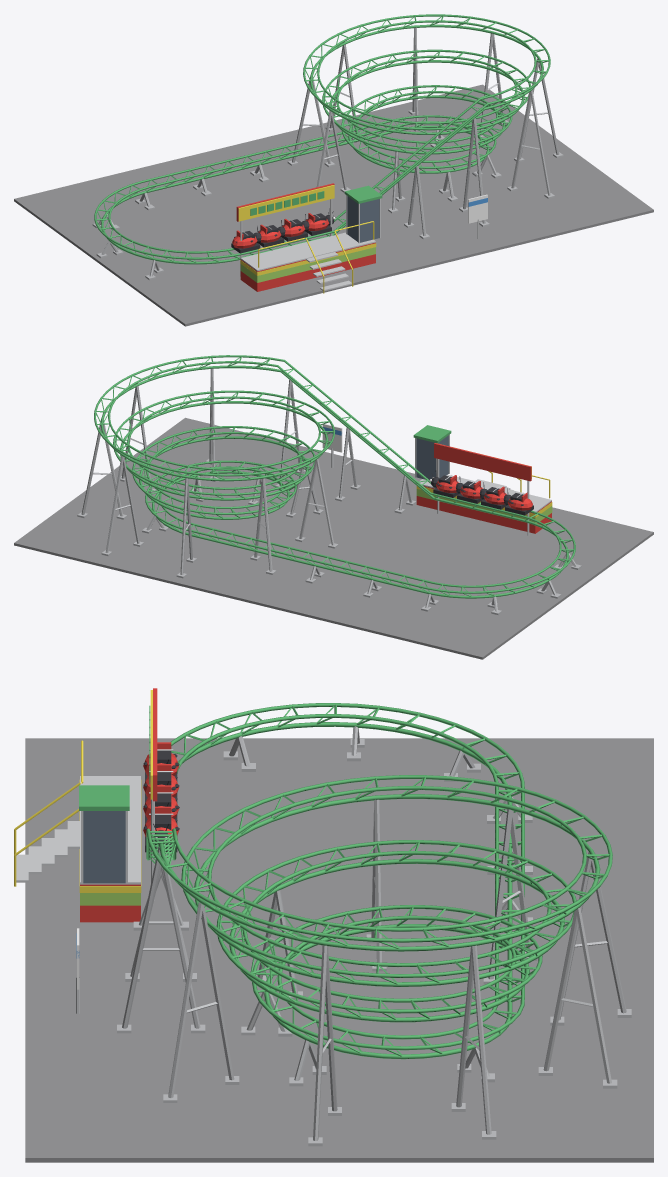
The picture shows the model from 3 angles, top to bottom: view 1: azimuth 30°, elevation 25°; view 2: azimuth 150°, elevation 25°; view 3: azimuth 270°, elevation 25°; orthographic projection. The views are drawn at different scales.
Visible parts, largest first — view 1: base, car3, car0, car2, car1; view 2: base, car3, car0, car2, car1; view 3: base, car0.
Part boxes in pixels (x1,y1,x2,y2): base: (14, 14, 653, 326); car3: (231, 226, 261, 253); car0: (305, 208, 335, 235); car2: (258, 220, 285, 247); car1: (282, 214, 309, 241); base: (14, 355, 653, 659); car3: (503, 488, 533, 515); car0: (429, 470, 458, 497); car2: (479, 482, 506, 509); car1: (455, 476, 482, 503); base: (14, 688, 653, 1162); car0: (143, 806, 179, 852).
Bounding box in the file's own units: 24.5 × 5.85 × 15.78.
